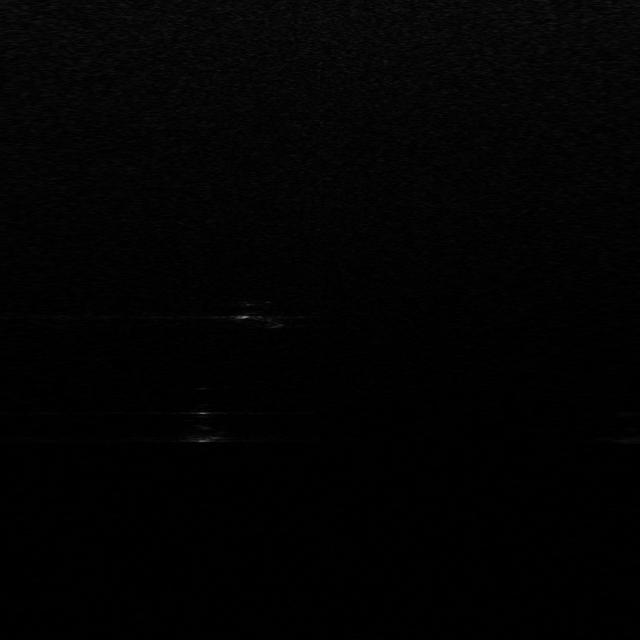ball: (176, 409, 228, 443)
tyre: (231, 299, 288, 330)
